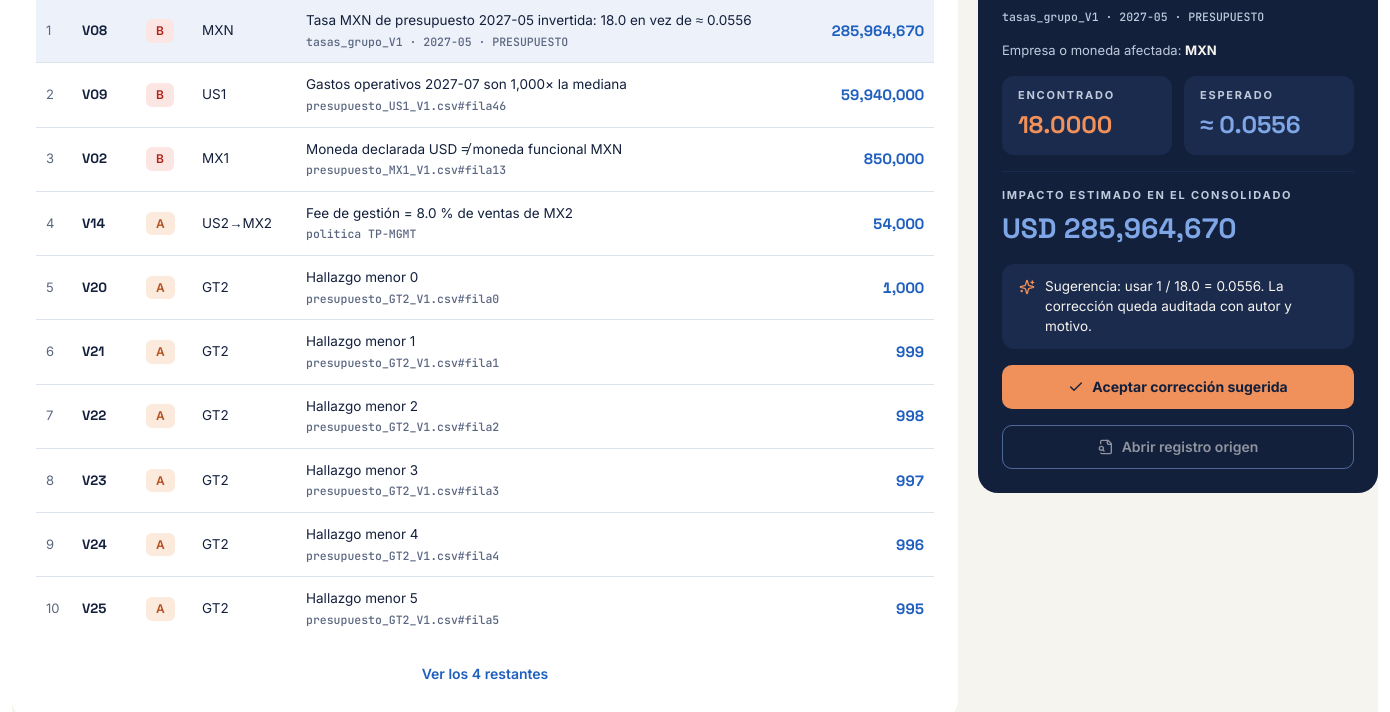
ValidationPage › exige justificación antes de aceptar la corrección y llama a la mutación con id y texto
(page scrolled)
Click the button "Aceptar corrección sugerida" at (1178, 387), box 1002,365 -> 1354,409
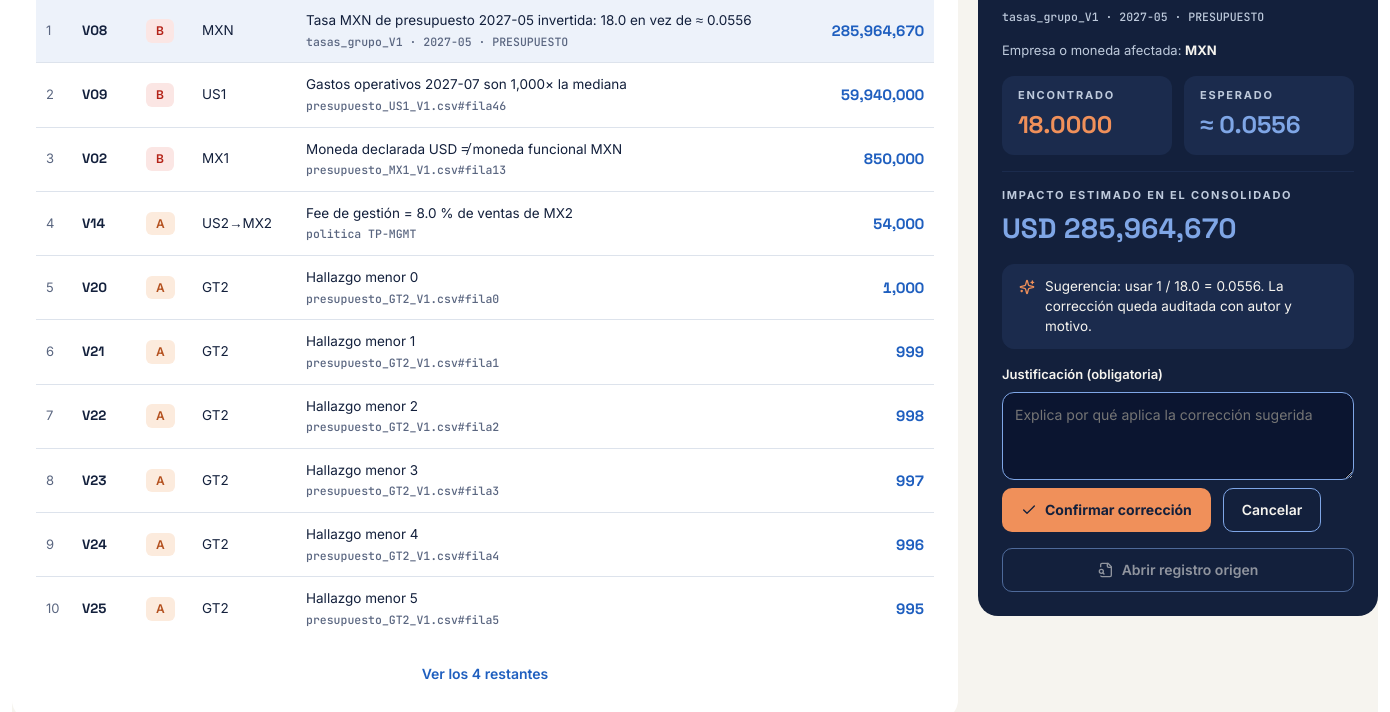
Click the button "Confirmar corrección" at (1106, 510), box 1002,488 -> 1211,532
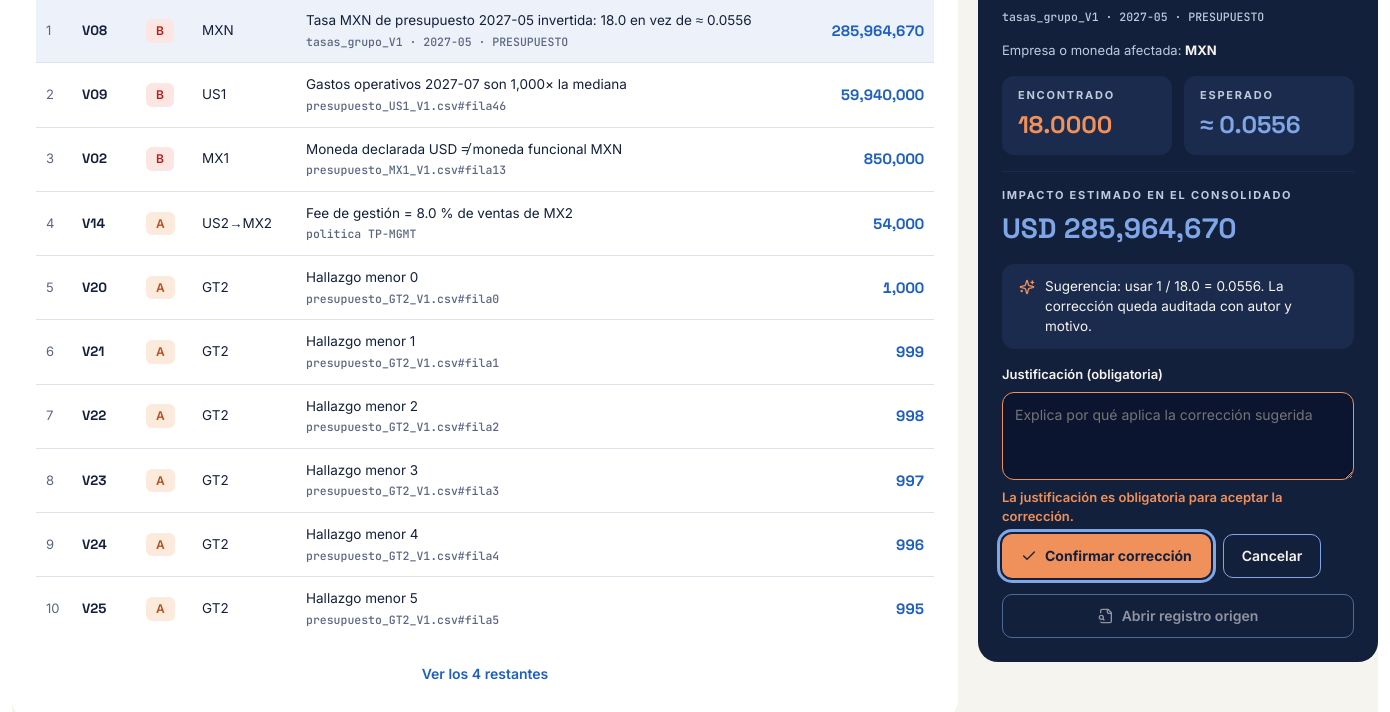
Result: the message shows "La justificación es obligatoria" at 1002,489 -> 1282,524
Type "Tasa invertida confirmada con tesorería" into the text box labelled "Justificación (obligatoria)" at (1178, 436), box 1002,392 -> 1354,480
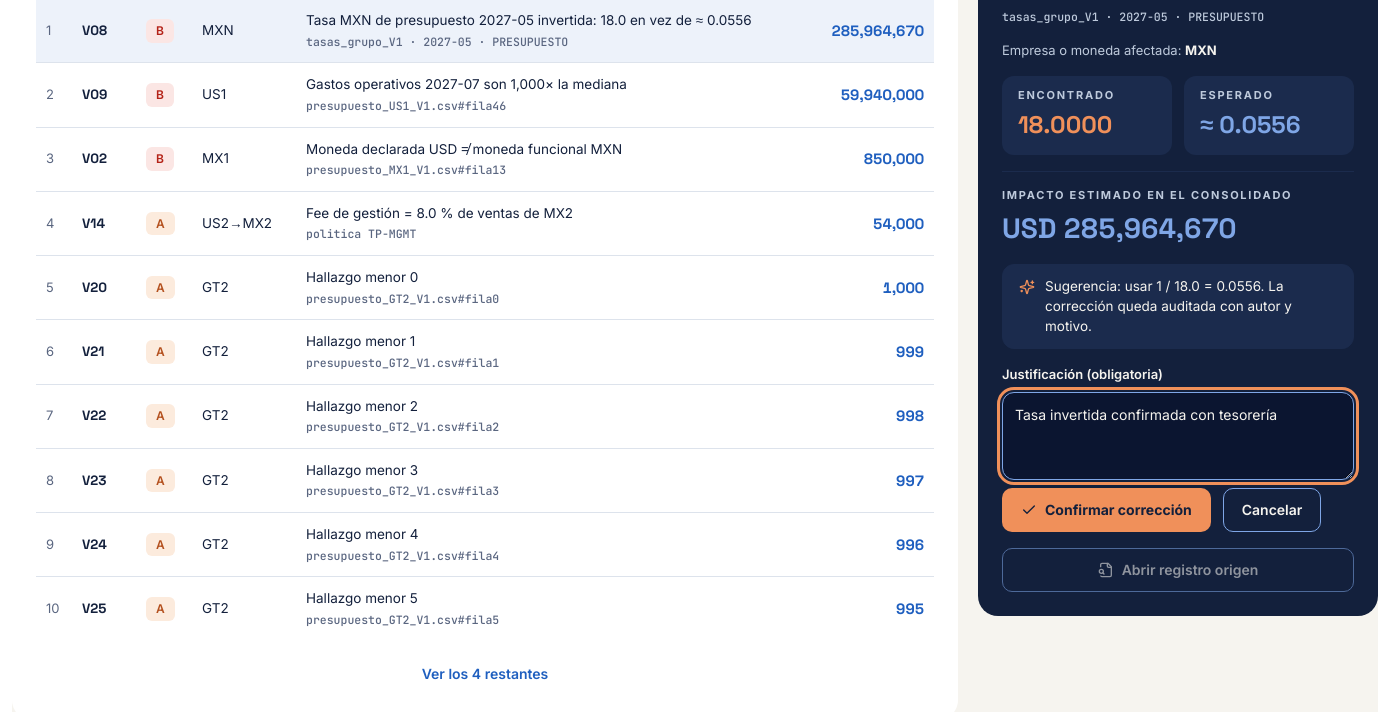
Click the button "Confirmar corrección" at (1106, 510), box 1002,488 -> 1211,532
(page scrolled)
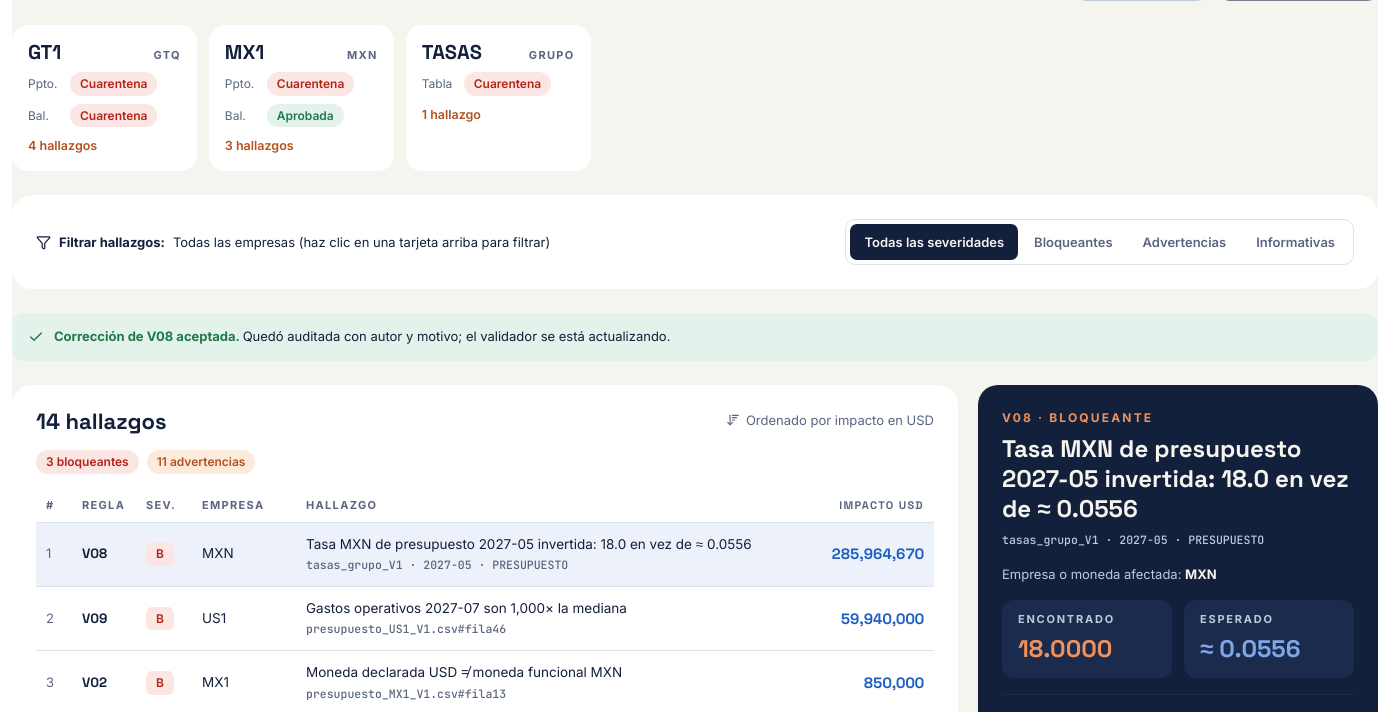
Result: the text "Corrección de V08 aceptada." is shown at 54,328 -> 243,344
